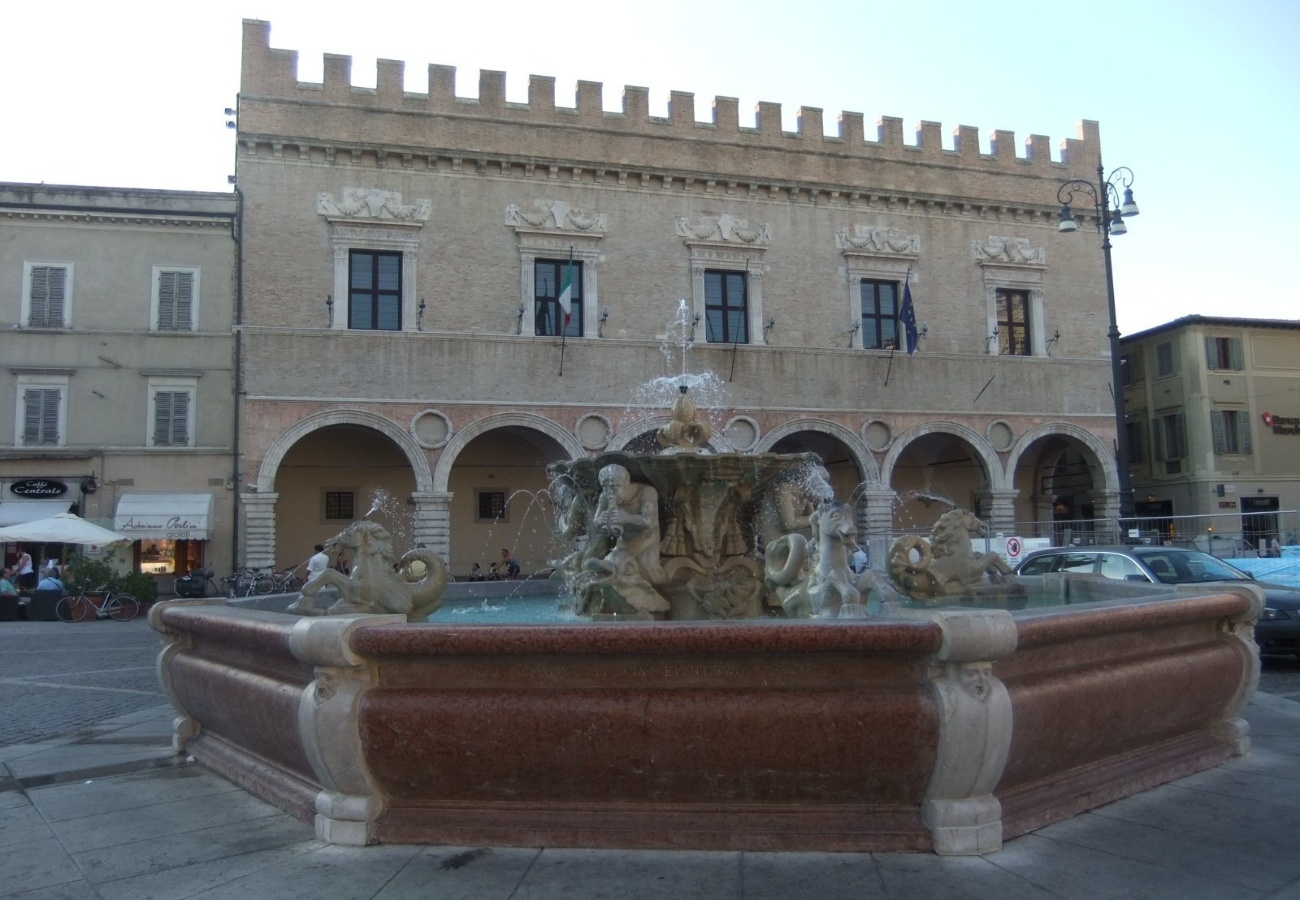Fontana Piazza del Popolo: (546, 455, 837, 623)
Palazzo Ducale: (235, 13, 1128, 591)
